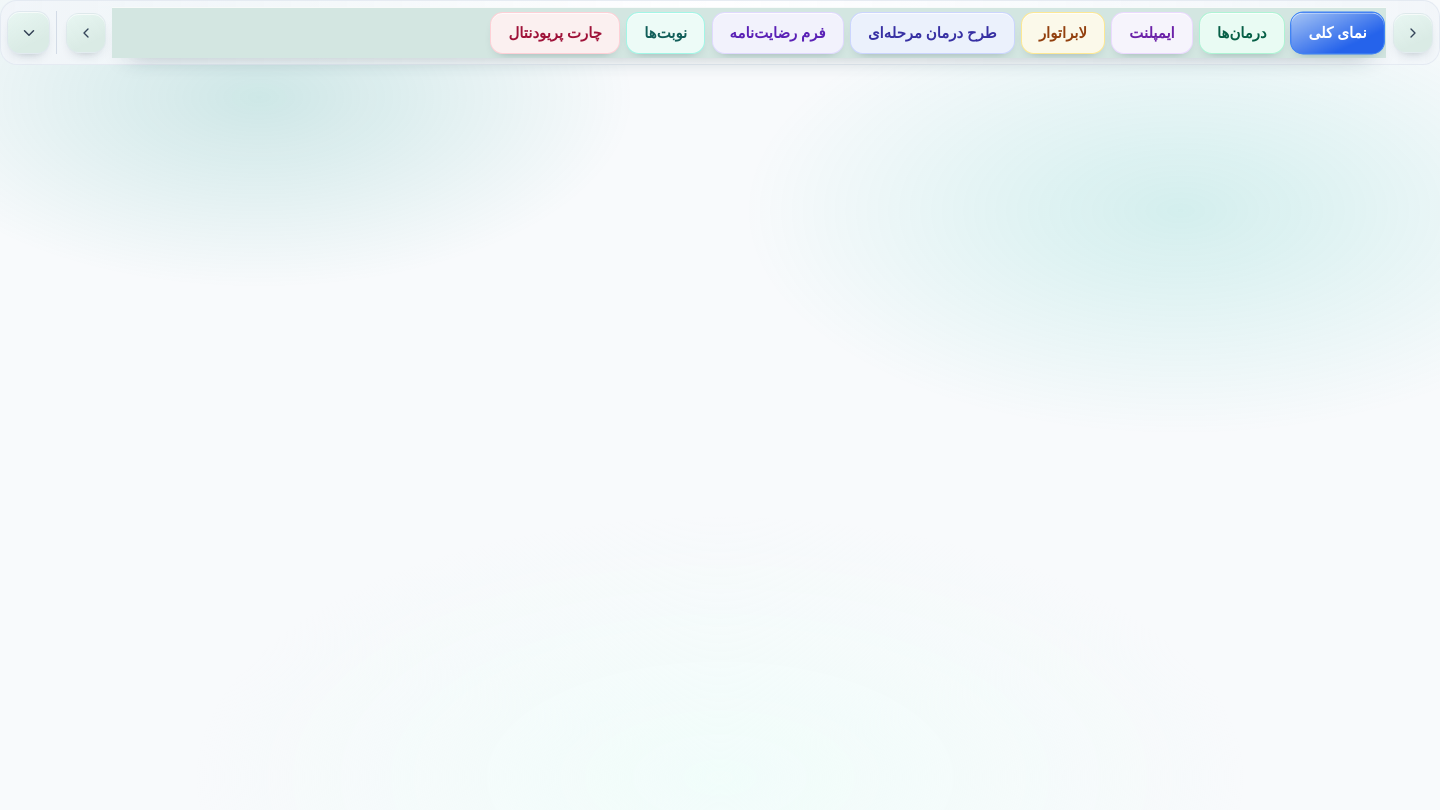
Tabs Component — 100% Colorful & Zero-Shift Modal Navigator › renders quick-jump navigator in a portal modal with all tabs colored and selectable
This screenshot has width=1440, height=810.
# Open quick jump menu
Click the button named "دسترسی سریع به تمام تب‌ها": (29, 33) [7,11,50,54]
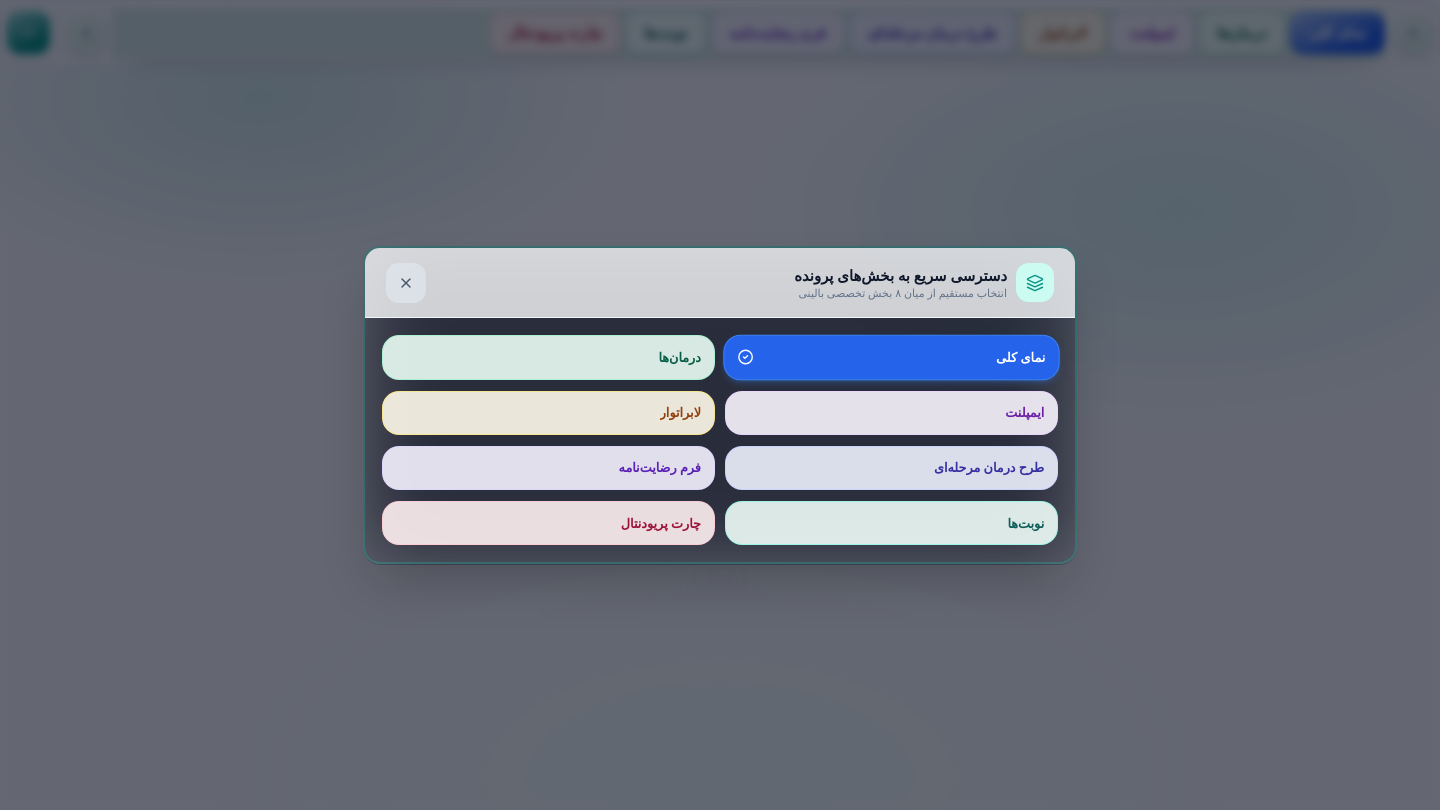
Check: the dialog "دسترسی سریع به بخش‌های پرونده" is shown, box [363,246,1077,564]
# The second one is inside the dialog
Click the button "طرح درمان مرحله‌ای": (989, 467) [725,446,1058,490]
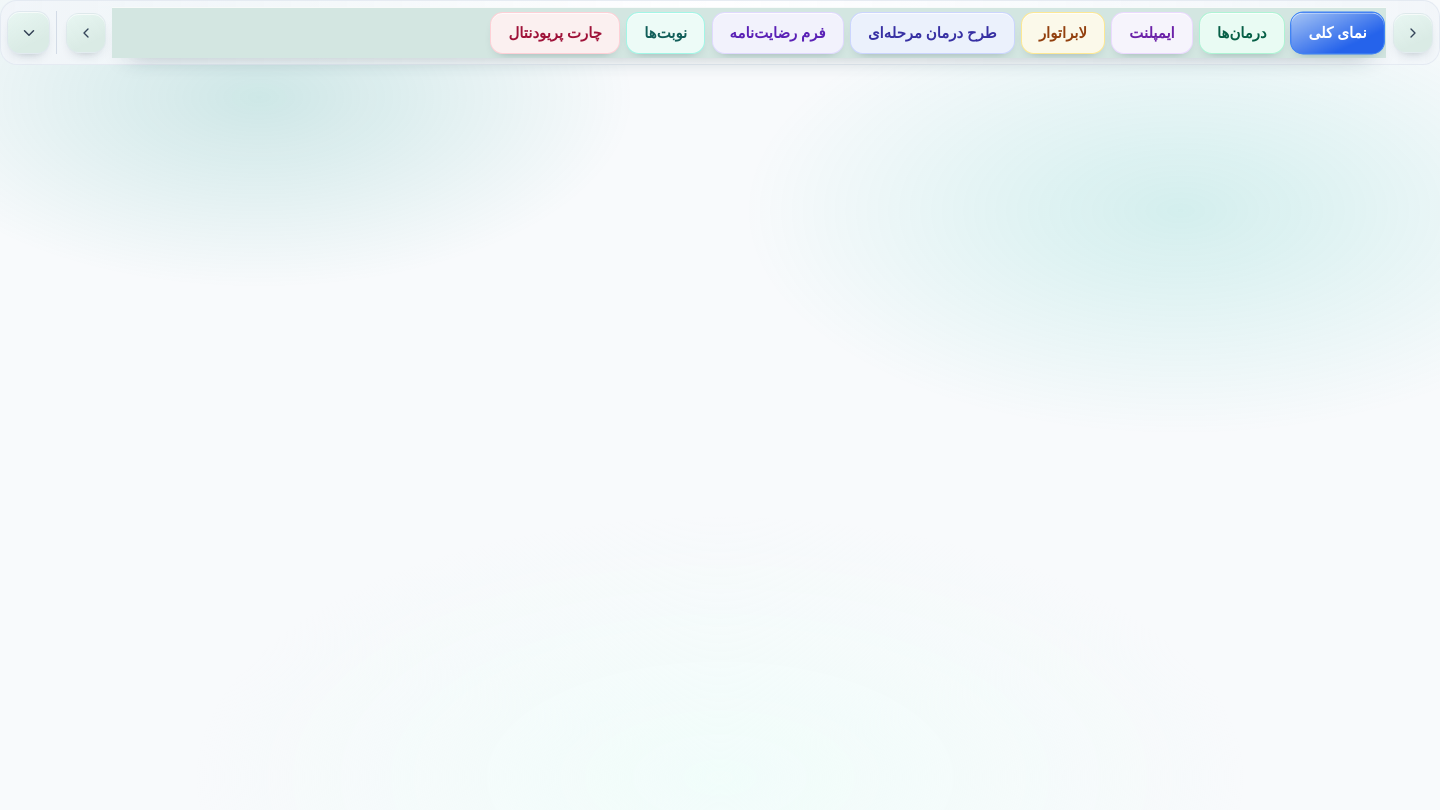
Check: the dialog is gone
